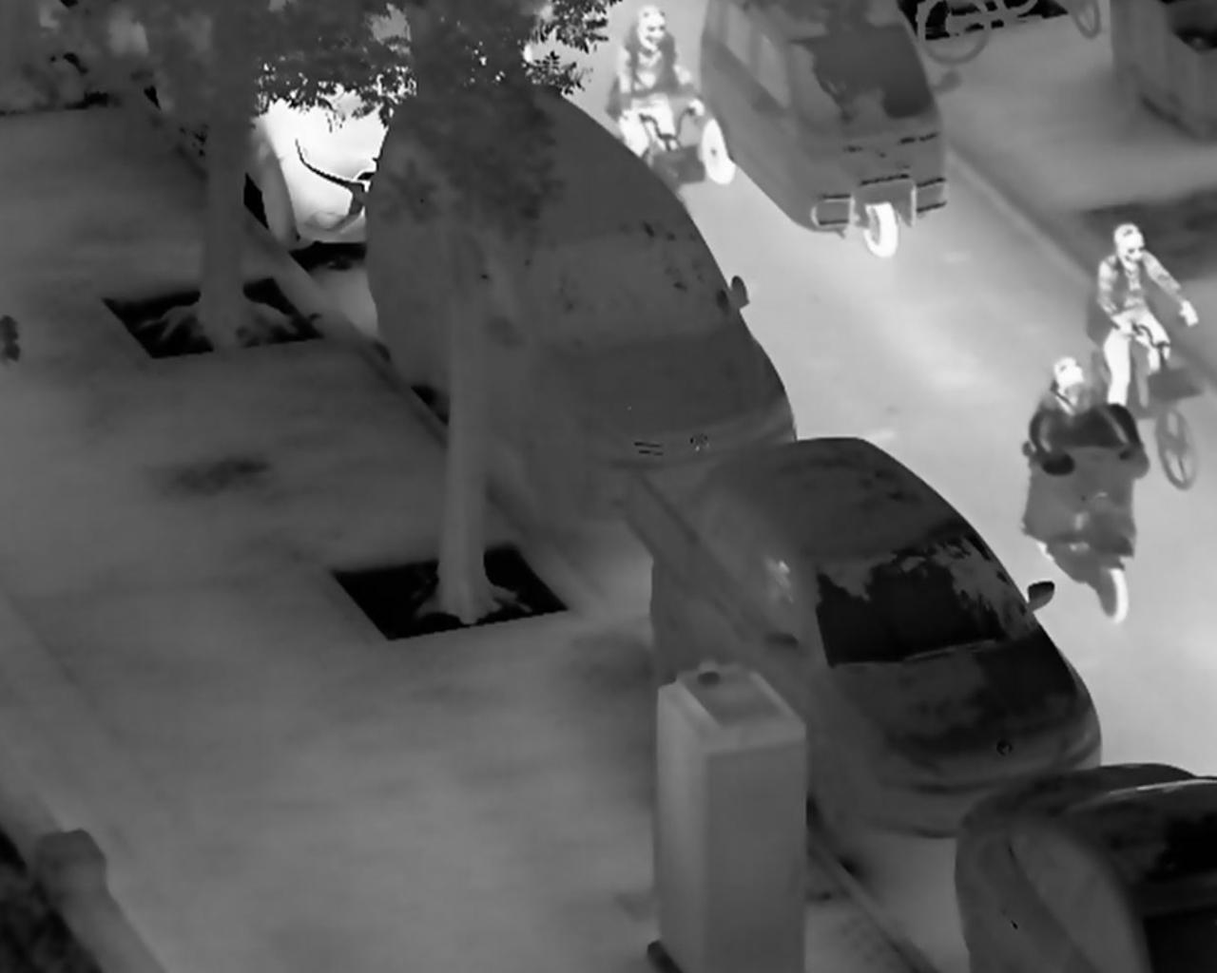person: (1094, 217, 1204, 410), (1019, 353, 1150, 498), (609, 6, 705, 158)
